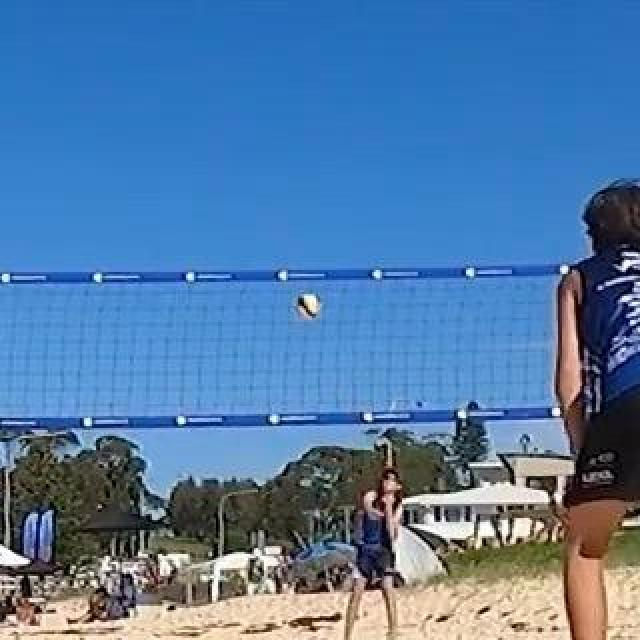volleyball: (296, 295, 318, 317)
